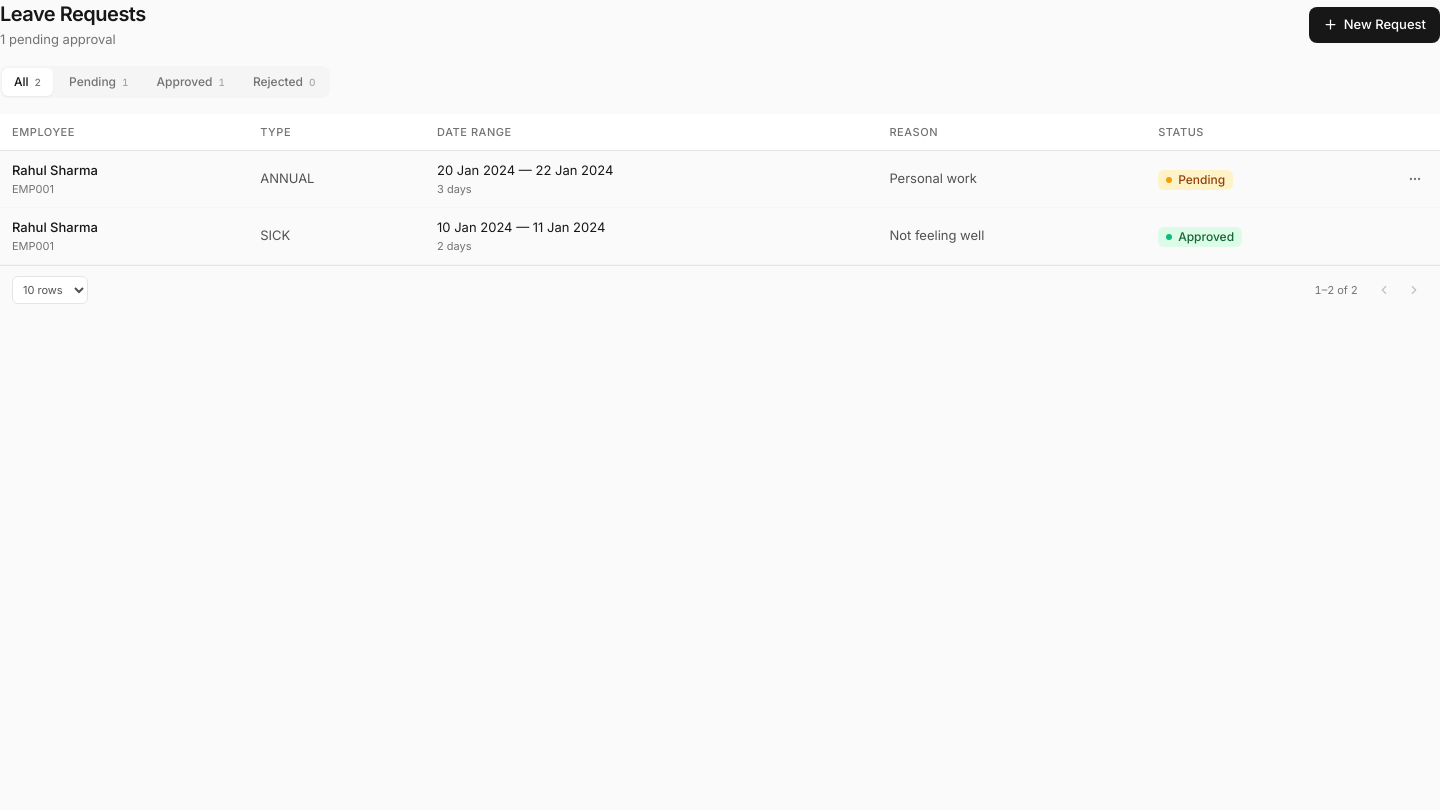
Scenario: LeaveRequestsPage › opens submit leave form when New Request is clicked
The image size is (1440, 810).
Click the button "New Request" at (1374,25), box [1309,7,1439,43]
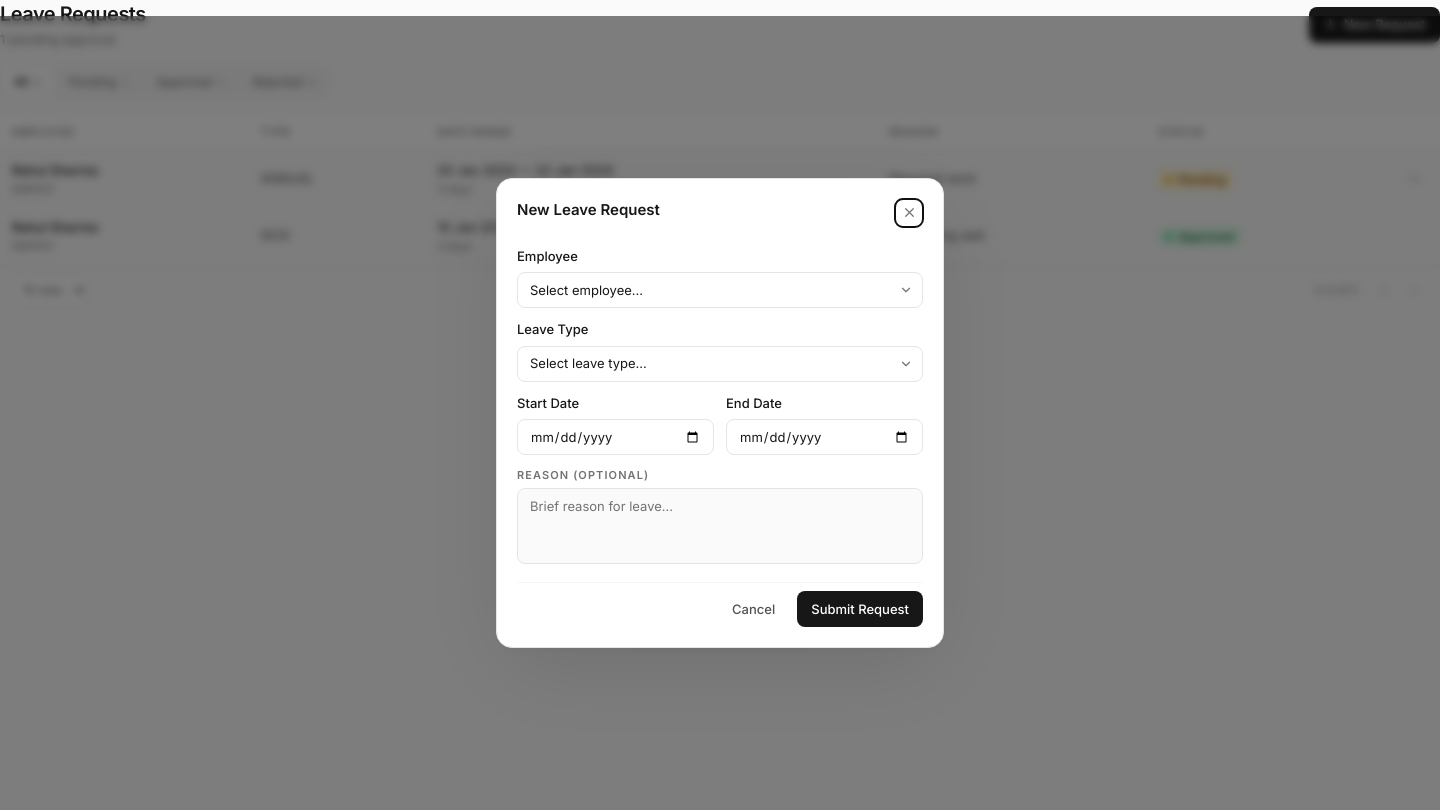
Check: the heading "New Leave Request" is shown, box [517,199,660,221]
